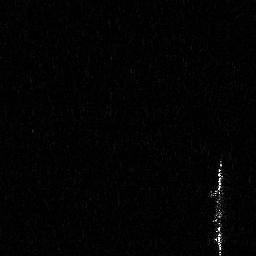ship: (208, 156, 226, 256)
